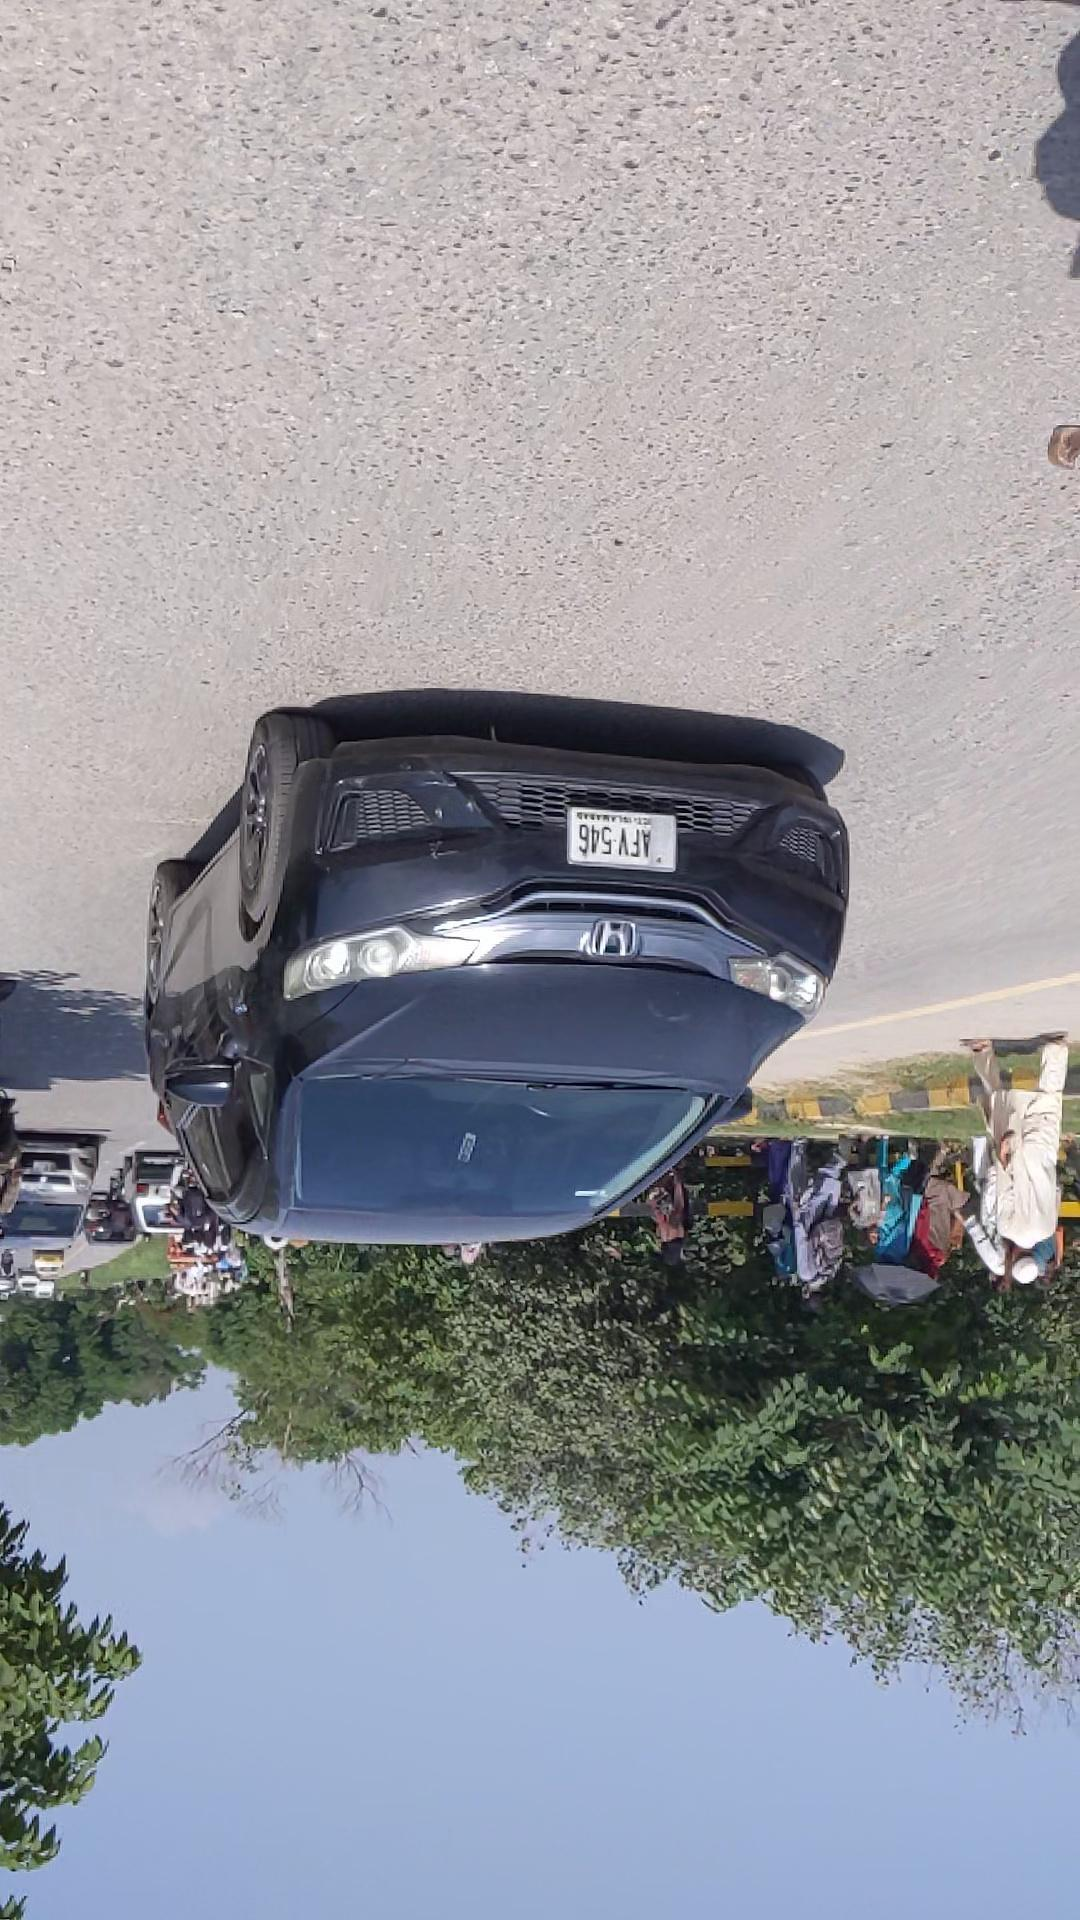windshield: (367, 675, 800, 855)
